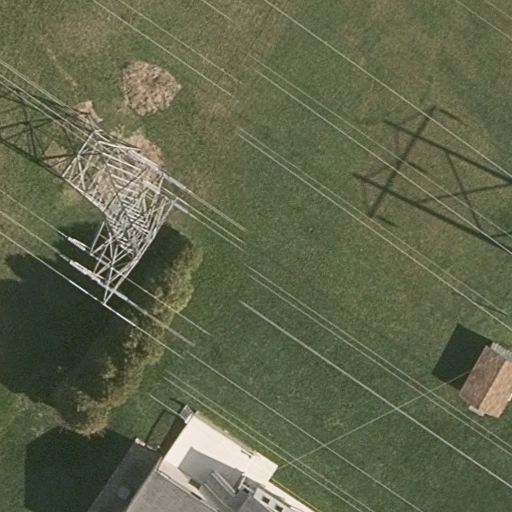TT: (50, 101, 191, 306)
